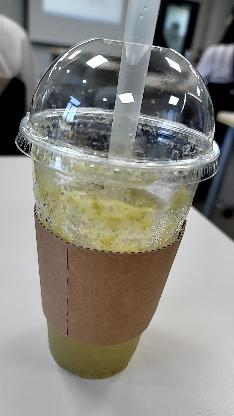Plastic Cup: (20, 32, 224, 388), (13, 35, 219, 191), (108, 3, 158, 189)
